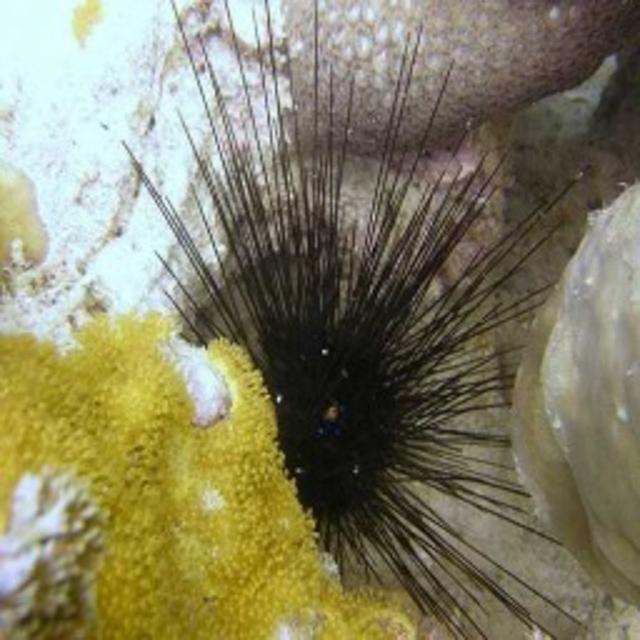Urchin: (121, 3, 604, 640)
